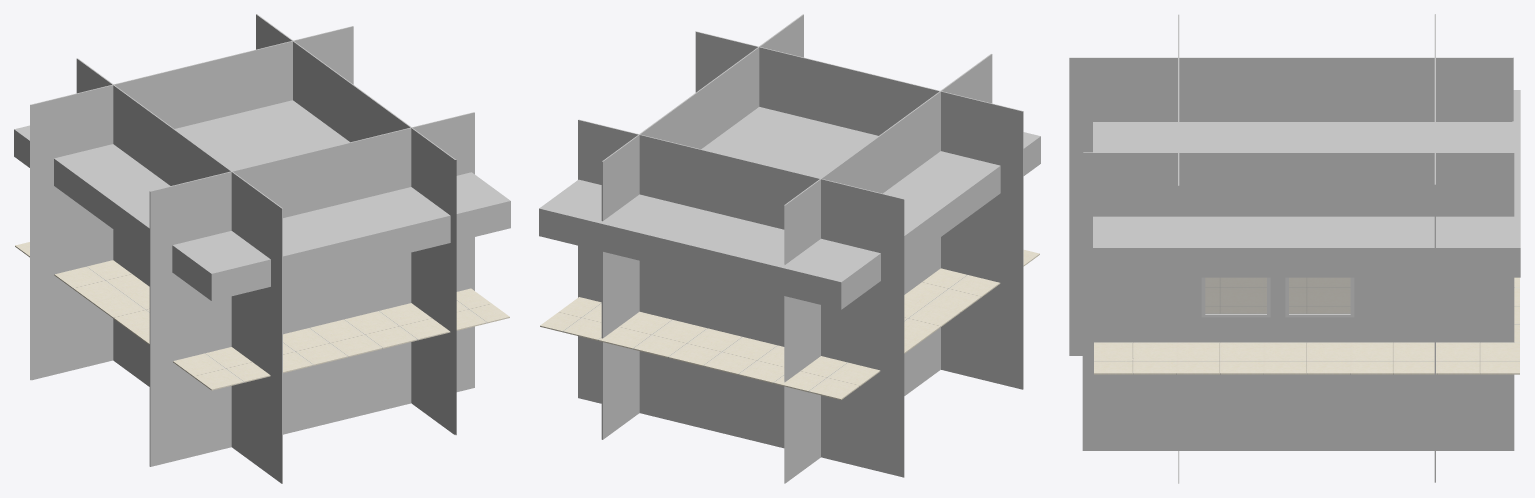
Rendered from kx_yqdct_js.fbx.
3 views of the same model, side by side, from view 1: azimuth 30°, elevation 25°; view 2: azimuth 150°, elevation 25°; view 3: azimuth 270°, elevation 25° (orthographic). The views are drawn at different scales.
Parts seen in each view (by area): view 1: kx_yqdct_qiang, kx_yqdct_tianhuaban, kx_yqdct_cizhuan; view 2: kx_yqdct_qiang, kx_yqdct_tianhuaban, kx_yqdct_cizhuan; view 3: kx_yqdct_qiang, kx_yqdct_tianhuaban, kx_yqdct_cizhuan, kx_yqdct_bolichaung, kx_yqdct_chuangkuang.
Part boxes in pixels (bbox=[...]): kx_yqdct_qiang: bbox=[30, 14, 474, 483]; kx_yqdct_tianhuaban: bbox=[14, 100, 510, 300]; kx_yqdct_cizhuan: bbox=[15, 242, 509, 390]; kx_yqdct_qiang: bbox=[578, 14, 1023, 483]; kx_yqdct_tianhuaban: bbox=[539, 107, 1040, 309]; kx_yqdct_cizhuan: bbox=[540, 250, 1039, 399]; kx_yqdct_qiang: bbox=[1069, 14, 1514, 483]; kx_yqdct_tianhuaban: bbox=[1093, 90, 1520, 277]; kx_yqdct_cizhuan: bbox=[1094, 277, 1519, 374]; kx_yqdct_bolichaung: bbox=[1205, 277, 1350, 313]; kx_yqdct_chuangkuang: bbox=[1201, 277, 1354, 317].
Size of the model in its own units: 30.56 by 24.69 by 33.89.
